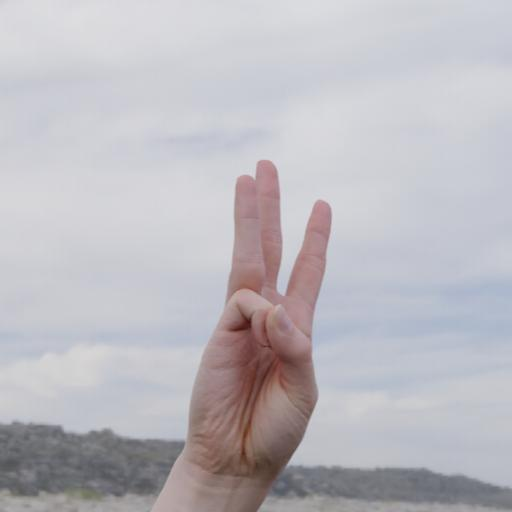W: (162, 155, 332, 469)
